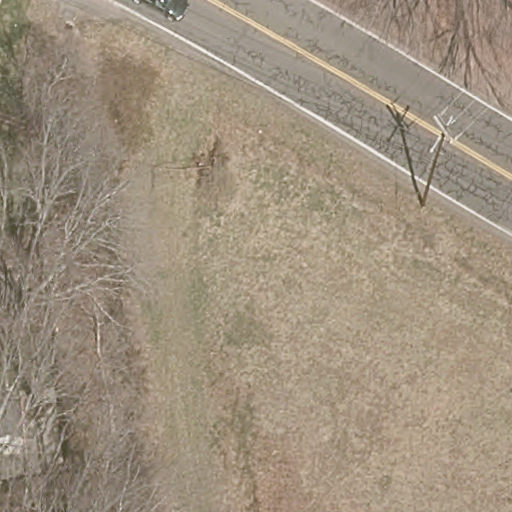DT: (420, 110, 458, 208)
